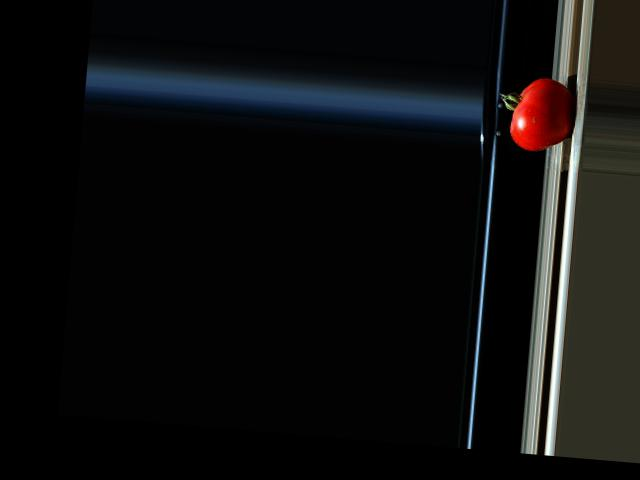tomato: (495, 74, 576, 153)
